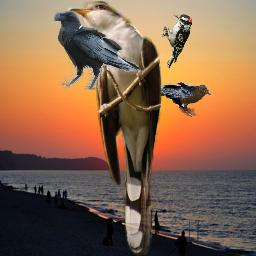Crow: (52, 11, 139, 90), (144, 82, 211, 117)
Cuckoo: (68, 1, 163, 256)
Woodpecker: (162, 13, 192, 69)
